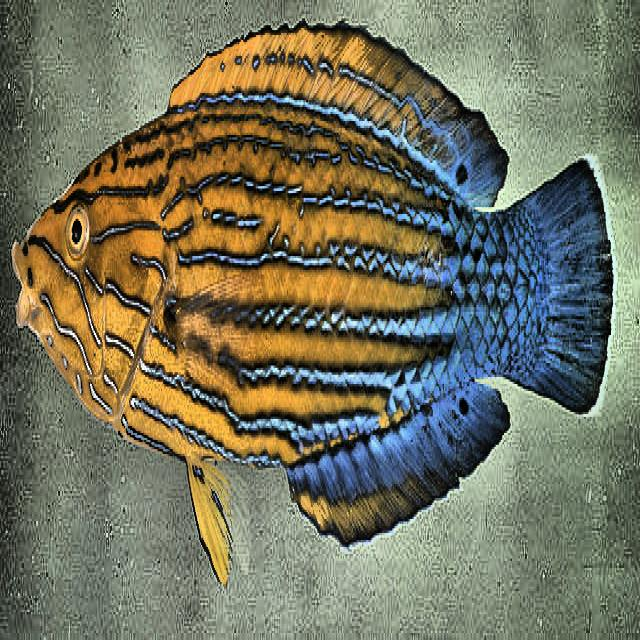fish: (12, 18, 617, 589)
